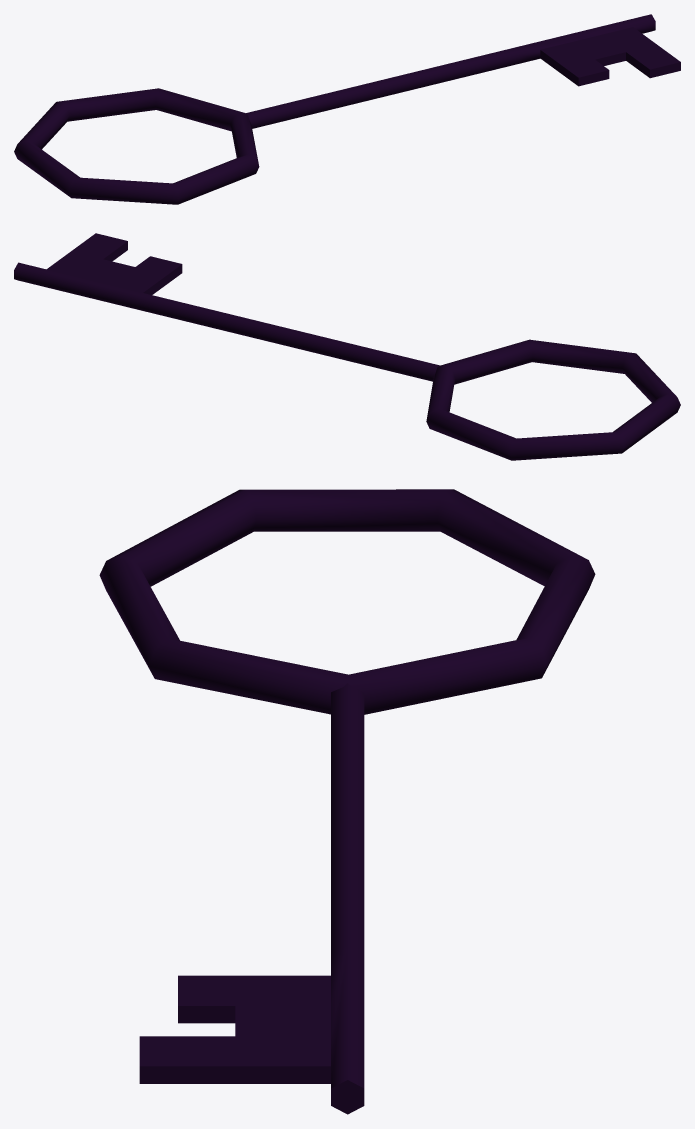
Rendered from Темный ключ.FBX.
The picture shows the model from 3 angles, top to bottom: view 1: azimuth 30°, elevation 25°; view 2: azimuth 150°, elevation 25°; view 3: azimuth 270°, elevation 25°; orthographic projection. The views are drawn at different scales.
Visible parts, largest first — view 1: Ключ; view 2: Ключ; view 3: Ключ.
Part boxes in pixels (x1,y1,x2,y2): Ключ: (14,14,680,204); Ключ: (14,233,680,460); Ключ: (99,489,595,1114).
Size of the model in its own units: 73.62 by 2.42 by 25.91.
